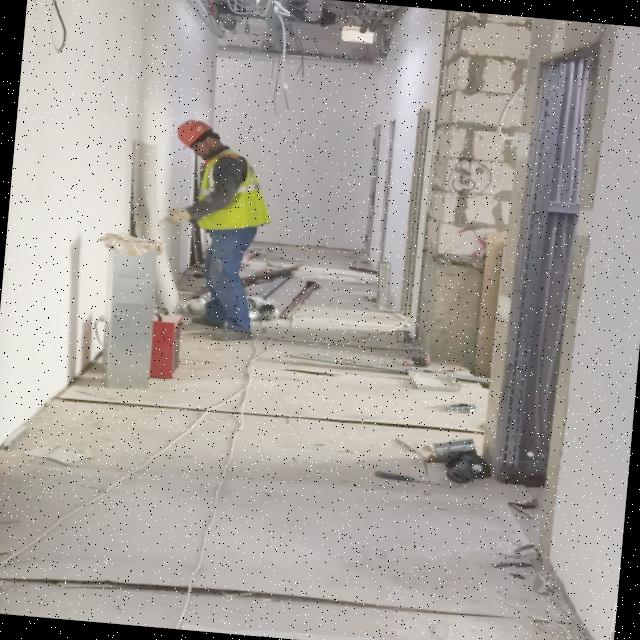Helmet: (176, 119, 221, 152)
Jacket: (184, 148, 264, 241)
